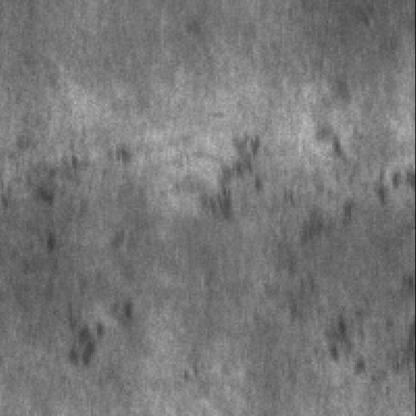rolled-in_scale: (206, 125, 412, 372), (27, 148, 133, 366)
